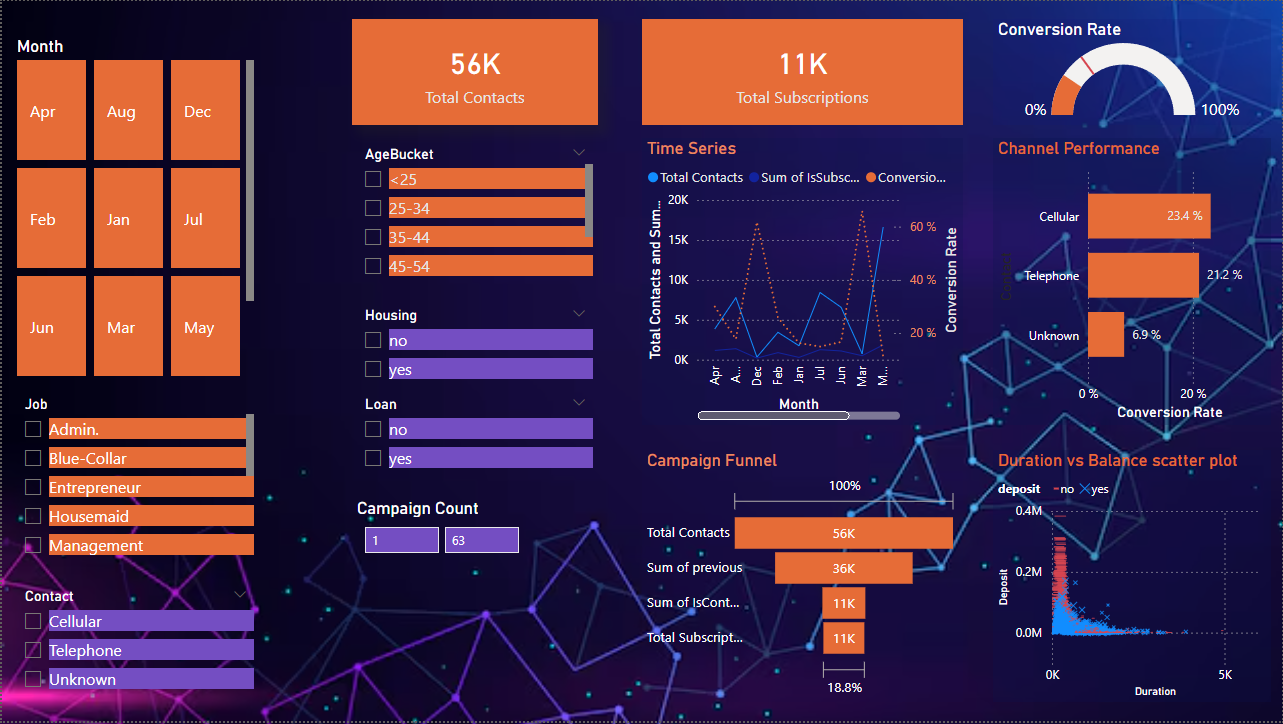

The dashboard page shown, as its layout file describes it:
{"tool":"powerbi","page":{"name":"Bank Marketing — Campaign Performance Dashboard","canvas":[1280,720],"ordinal":0},"visuals":[{"type":"card","fields":{"Values":["BankData.Total Contacts"]},"box":[350.2,17.5,246.1,106],"z":0},{"type":"card","fields":{"Values":["BankData.Total Subscriptions"]},"box":[640,17.5,321,106],"z":1000},{"type":"gauge","title":"Conversion Rate","fields":{"Y":["BankData.Conversion Rate"],"TargetValue":["BankData.Target Conversion Rate"]},"box":[991.1,17.5,278.2,106],"z":2000},{"type":"advancedSlicerVisual","fields":{"Values":["BankData.month"]},"box":[9.7,35,247.1,345.3],"z":3000},{"type":"slicer","fields":{"Values":["BankData.job"]},"box":[9.7,390,247.1,176],"z":4000},{"type":"slicer","fields":{"Values":["BankData.contact"]},"box":[9.7,581.6,247.1,119.6],"z":5000},{"type":"slicer","fields":{"Values":["BankData.AgeBucket"]},"box":[350.2,140.1,246.1,141],"z":6000},{"type":"slicer","fields":{"Values":["BankData.housing"]},"box":[350.2,300.5,246.1,89.5],"z":7000},{"type":"slicer","fields":{"Values":["BankData.loan"]},"box":[350.2,390,246.1,90.5],"z":8000},{"type":"slicer","title":"Campaign Count","fields":{"Values":["BankData.campaign"]},"box":[350.2,497,246.1,84.6],"z":9000},{"type":"lineChart","title":"Time Series","fields":{"Y":["BankData.Total Contacts","Sum(BankData.IsSubscribed)"],"Category":["BankData.Month"],"Y2":["BankData.Conversion Rate"]},"box":[640,137.1,321,286.9],"z":10000},{"type":"clusteredBarChart","title":"Channel Performance","fields":{"Category":["BankData.Contact"],"Y":["BankData.Conversion Rate"]},"box":[991.1,137.1,278.2,286.9],"z":11000},{"type":"funnel","title":"Campaign Funnel","fields":{"Y":["BankData.Total Contacts","Sum(BankData.previous)","Sum(BankData.IsContactedBefore)","BankData.Total Subscriptions"]},"box":[640,449.4,321,251.9],"z":12000},{"type":"scatterChart","title":"Duration vs Balance scatter plot","fields":{"Y":["Sum(BankData.balance)"],"Size":["Sum(BankData.campaign)"],"X":["BankData.duration"],"Series":["BankData.deposit"]},"box":[991.1,449.4,278.2,251.9],"z":13000}]}

Visuals, with their boxes in screenshot pixels (x1, y1, x2, y2), scaled from the page's 1280x720 canvas onto the 1283x724 screenshot:
card - BankData.Total Contacts: bbox=[351, 18, 598, 124]
card - BankData.Total Subscriptions: bbox=[642, 18, 963, 124]
"Conversion Rate" gauge: bbox=[993, 18, 1272, 124]
advancedSlicerVisual - BankData.month: bbox=[10, 35, 257, 382]
slicer - BankData.job: bbox=[10, 392, 257, 569]
slicer - BankData.contact: bbox=[10, 585, 257, 705]
slicer - BankData.AgeBucket: bbox=[351, 141, 598, 283]
slicer - BankData.housing: bbox=[351, 302, 598, 392]
slicer - BankData.loan: bbox=[351, 392, 598, 483]
"Campaign Count" slicer: bbox=[351, 500, 598, 585]
"Time Series" lineChart: bbox=[642, 138, 963, 426]
"Channel Performance" clusteredBarChart: bbox=[993, 138, 1272, 426]
"Campaign Funnel" funnel: bbox=[642, 452, 963, 705]
"Duration vs Balance scatter plot" scatterChart: bbox=[993, 452, 1272, 705]
